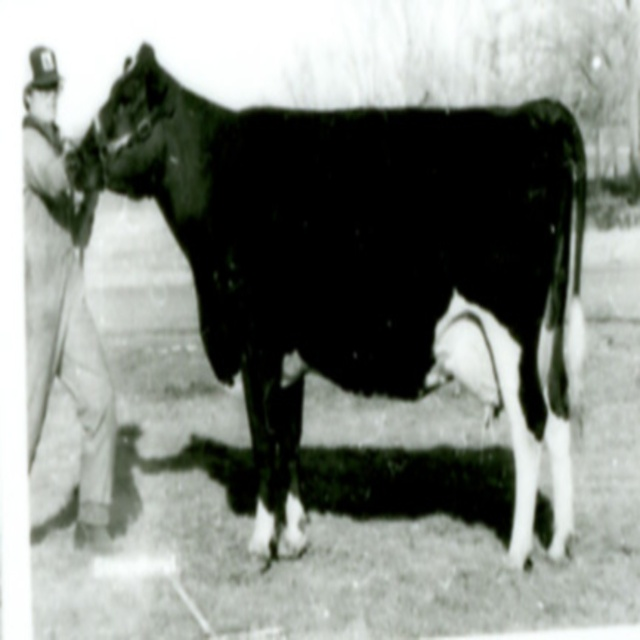Cattle: (58, 35, 585, 569)
